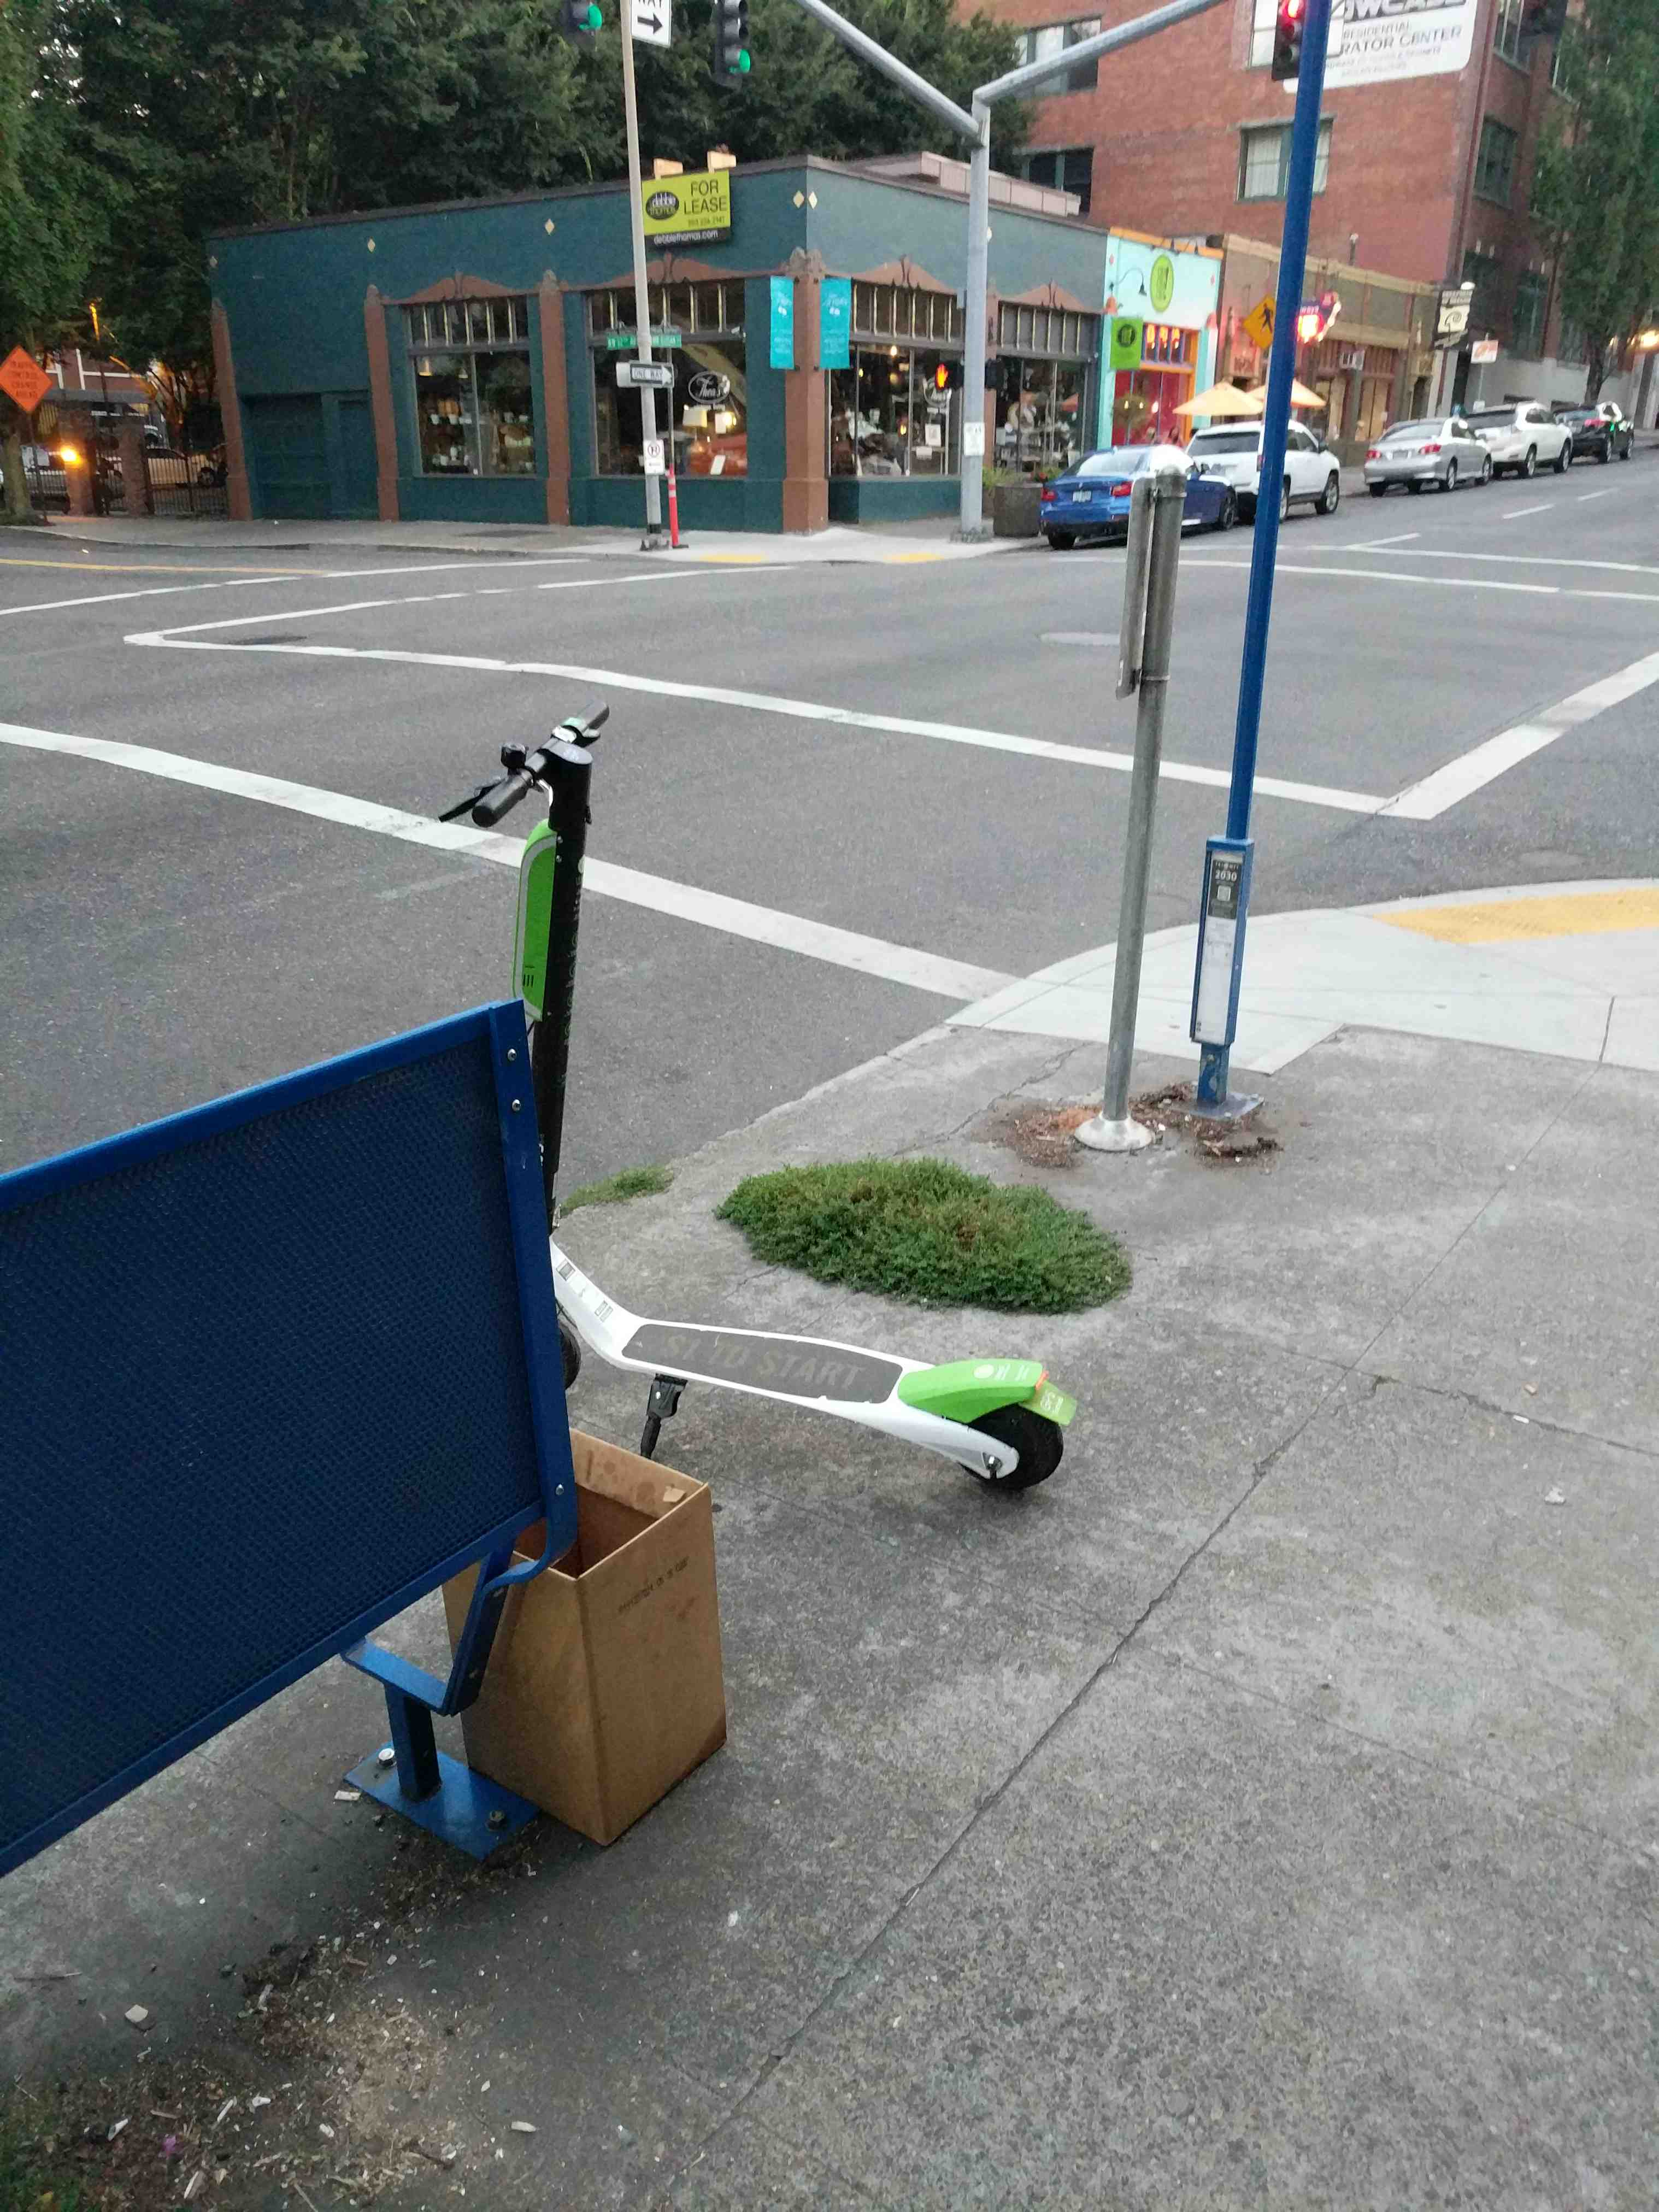scooter: (389, 674, 1093, 1526)
